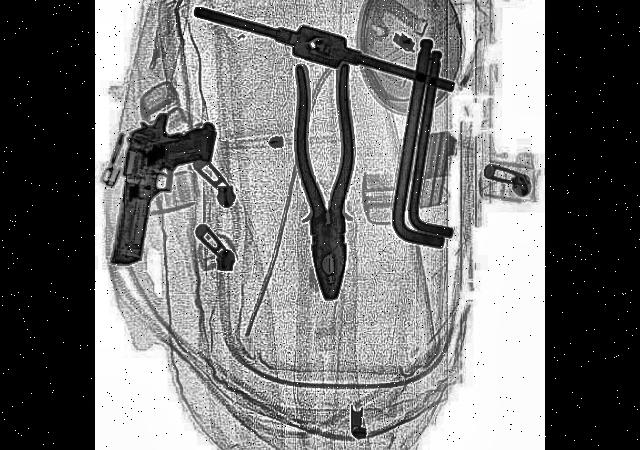Gun: (107, 93, 215, 292)
Pliers: (290, 55, 362, 303)
